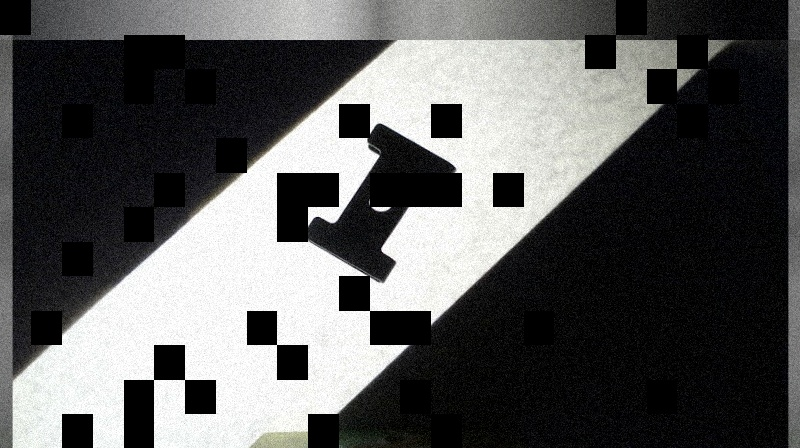O002: (299, 121, 459, 285)
